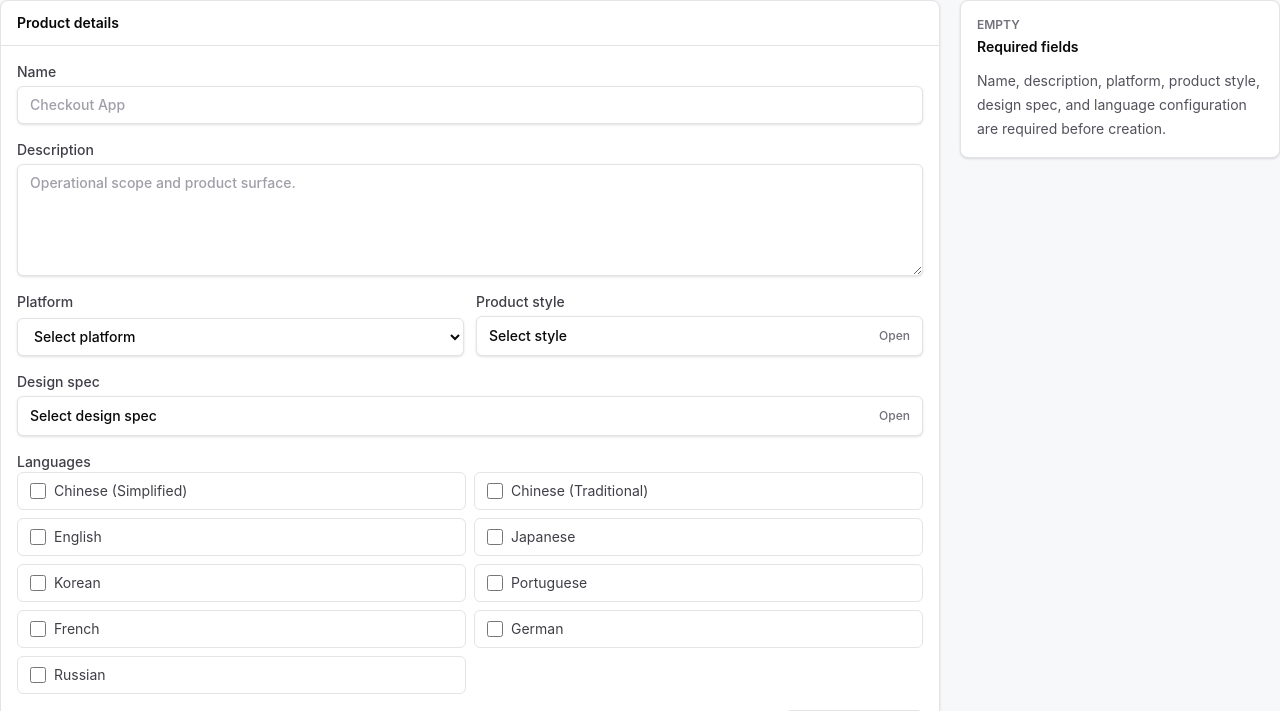
Test case: ProductNew › uses a design spec picker dialog instead of the old native select
The image size is (1280, 711).
Click the button "Select design spec Open" at (93, 416), box [17,396,923,436]
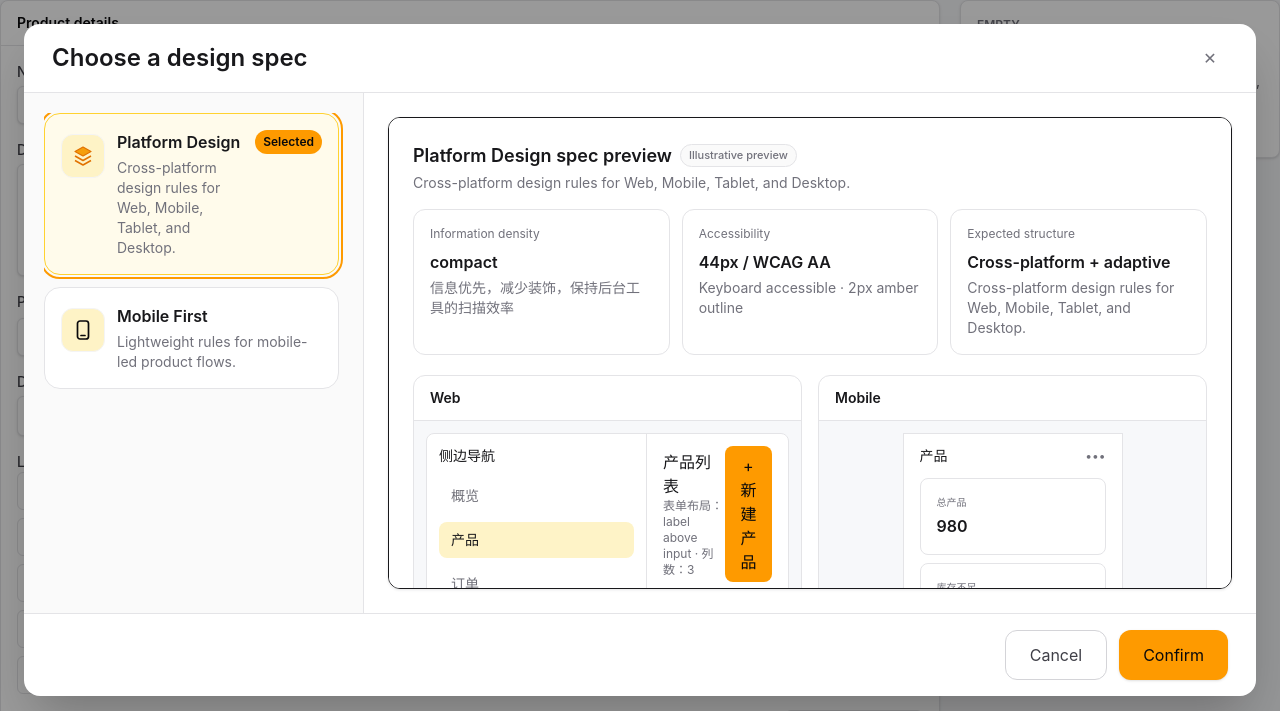
Result: the dialog shows "Platform Design" at [44,113,339,275]
Click the option "Mobile First Lightweight rules for mobile-led product flows." at (192, 338), box [44,287,339,389]
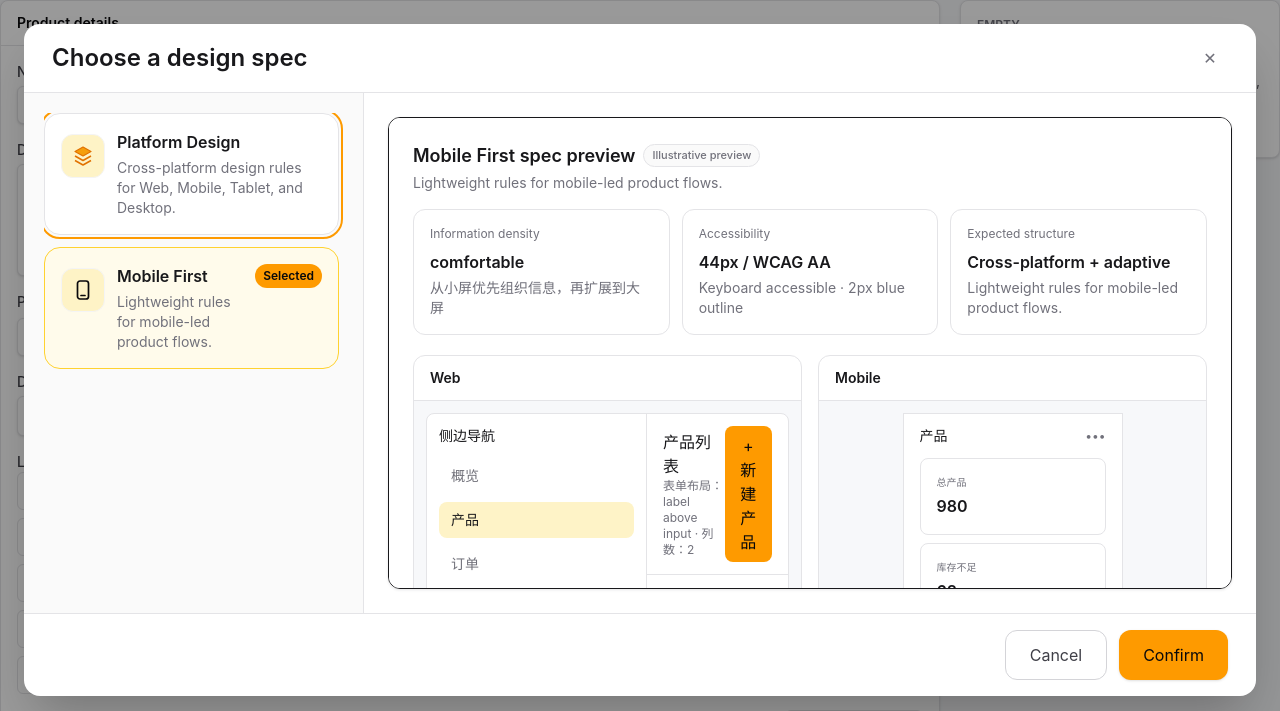
Click the button "Confirm" at (1174, 655), box [1119,630,1228,680]
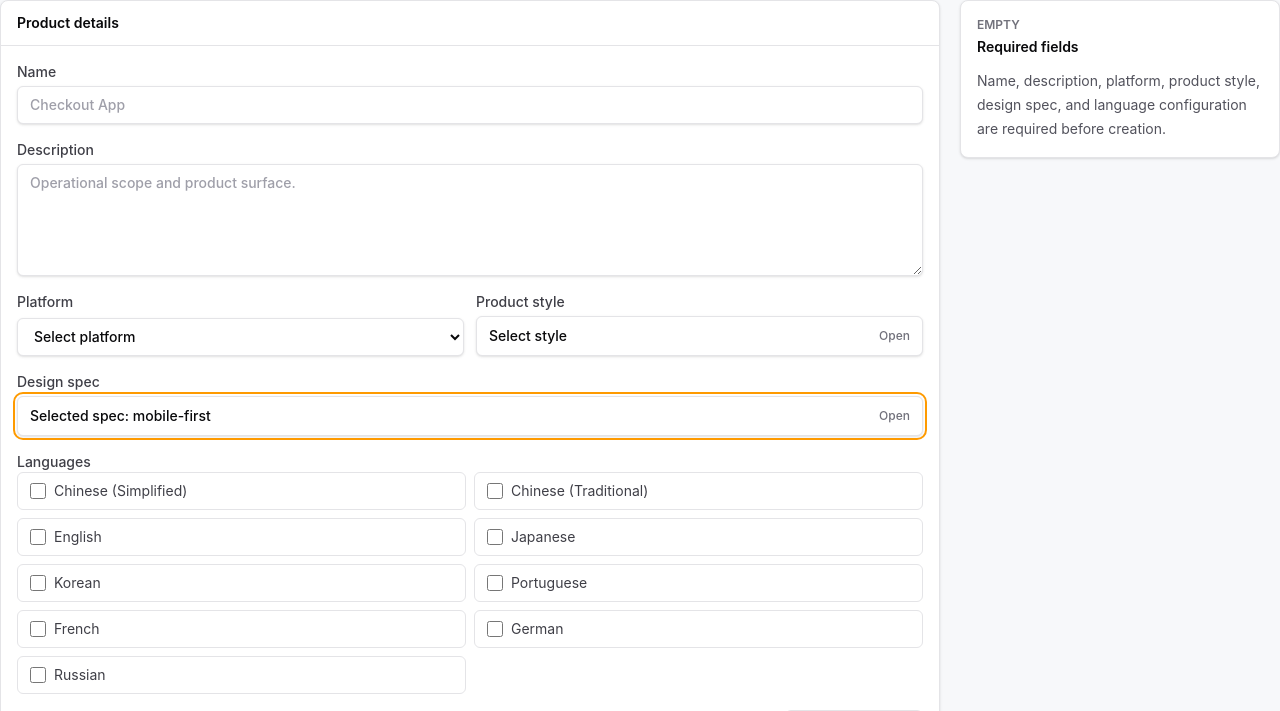
Expected: the element named "system_style" holds "mobile-first", [17,372,923,436]
Result: the button "Selected spec: mobile-first Open" is shown at [17,396,923,436]
